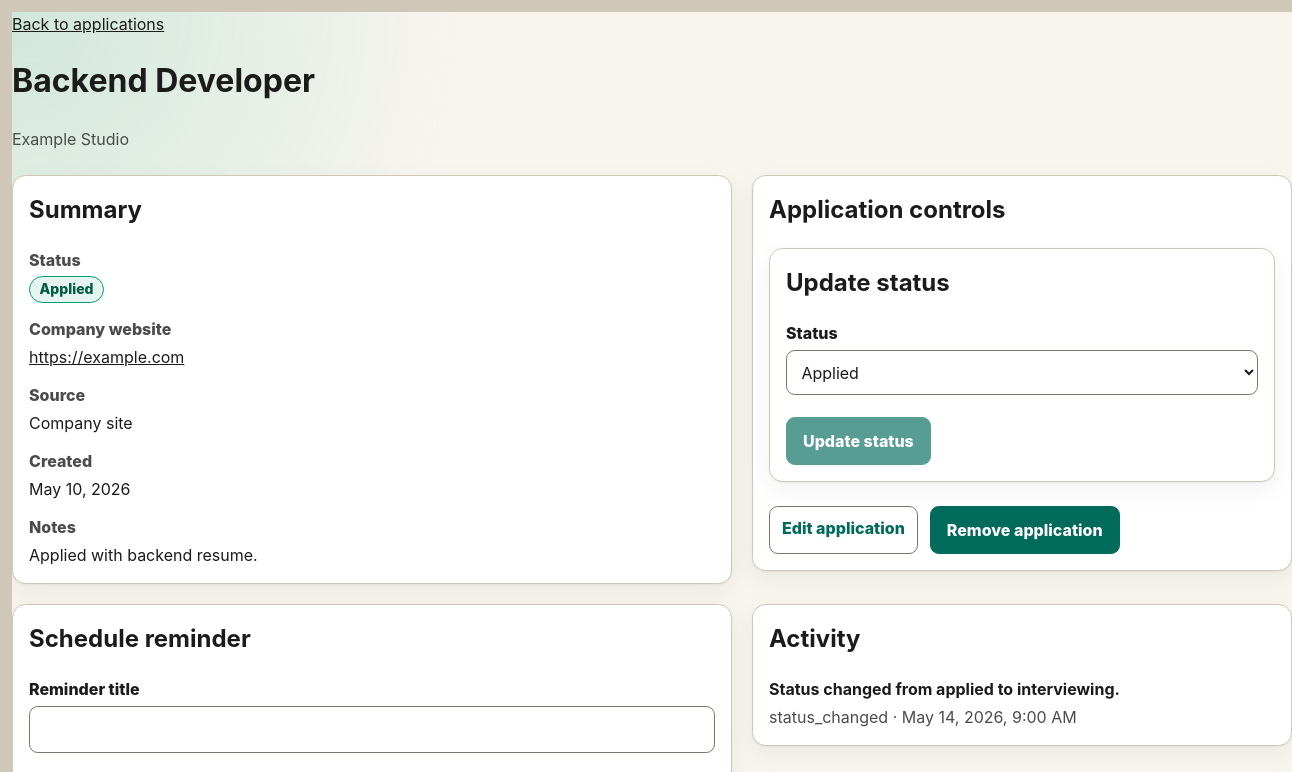
Test: ApplicationDetailPage › updates application status
Expected: the heading "Backend Developer" is shown, top-left (12, 61), bottom-right (315, 100)
Select "Interviewing" in the dropdown labelled "Status" at (1022, 373), box top-left (786, 350), bottom-right (1258, 395)
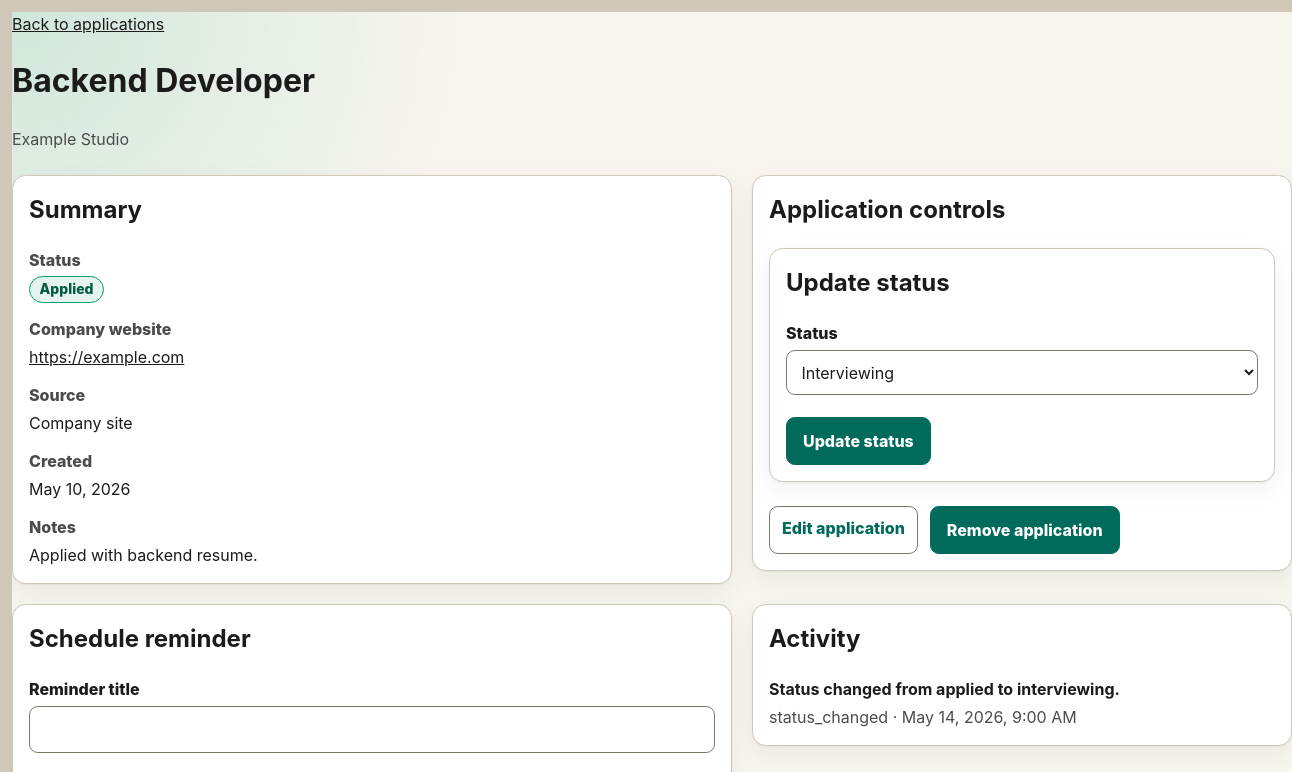
Click the button "Update status" at (858, 441), box top-left (786, 417), bottom-right (931, 465)
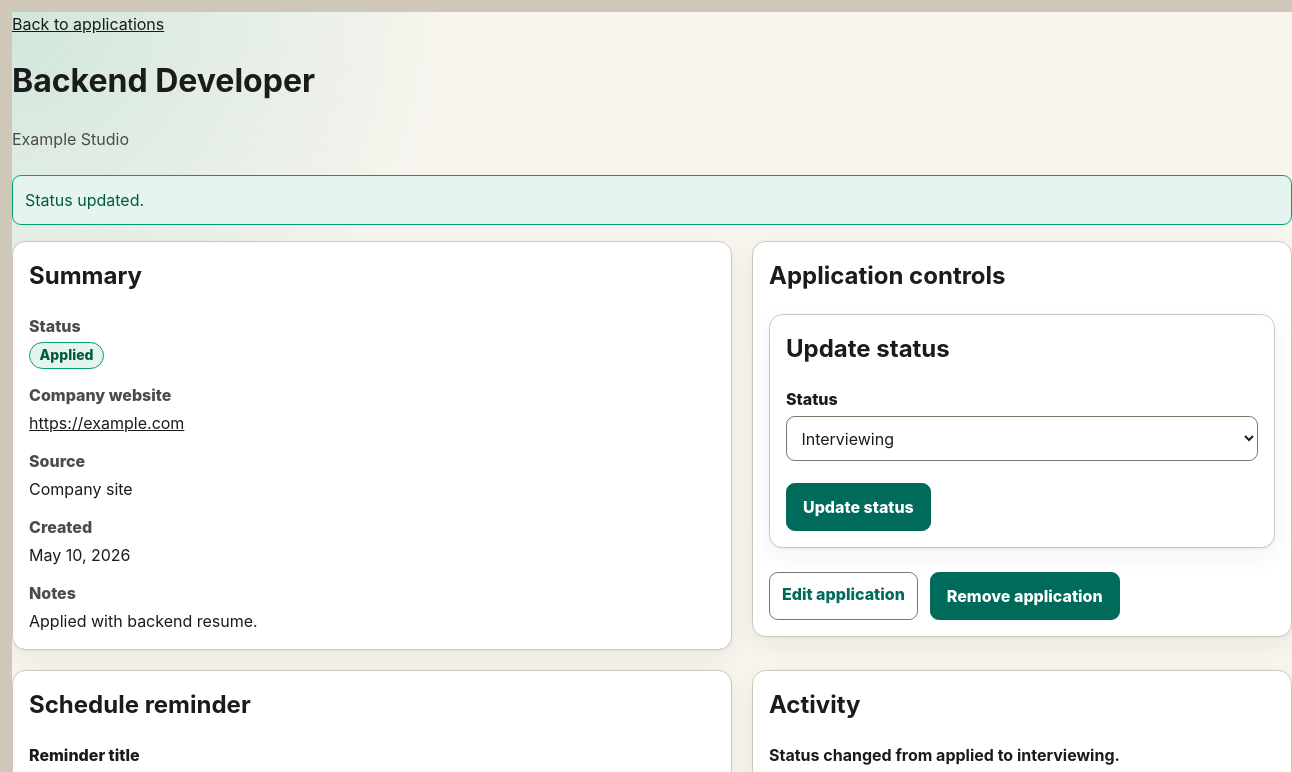
Result: the message reads "Status updated." at top-left (25, 190), bottom-right (144, 210)
